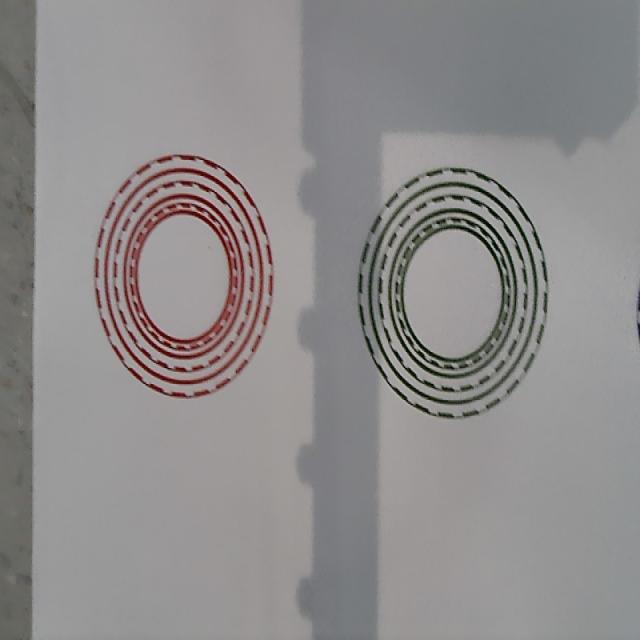g: (358, 167, 548, 421)
red-green-blue: (93, 154, 273, 401)
